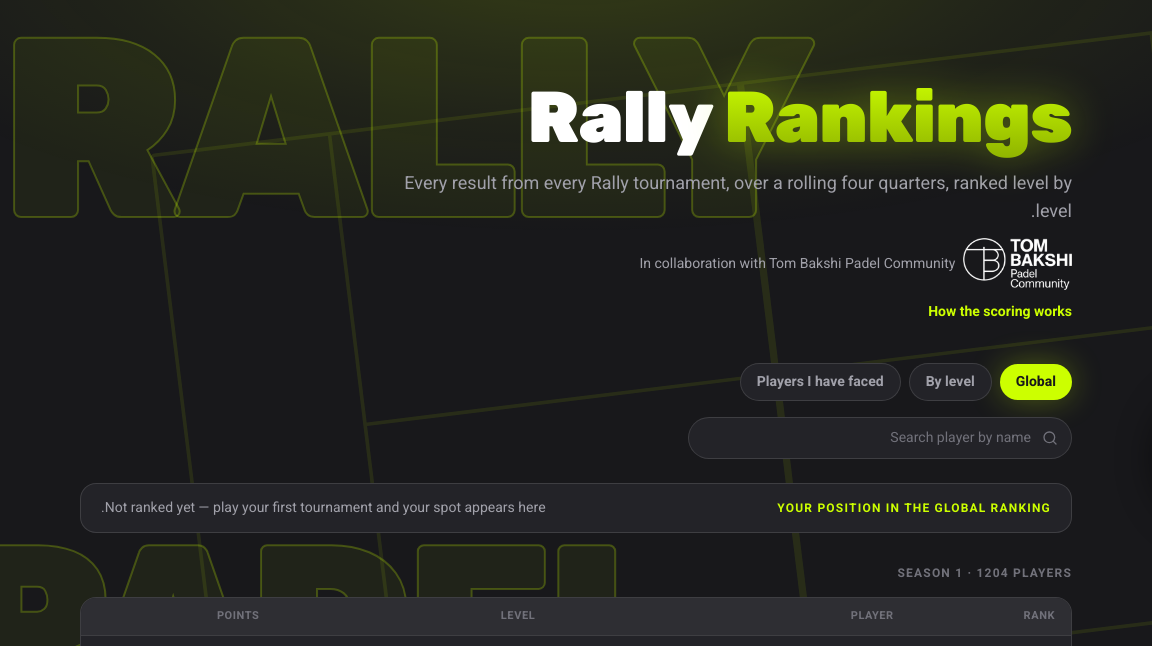
Test: the circle frame › signed in with zero opponents: the go-play invitation, not a bare empty table
Click the button with test id "league-frame-circle": click(820, 382) x1=740 y1=363 x2=901 y2=401
(page scrolled)
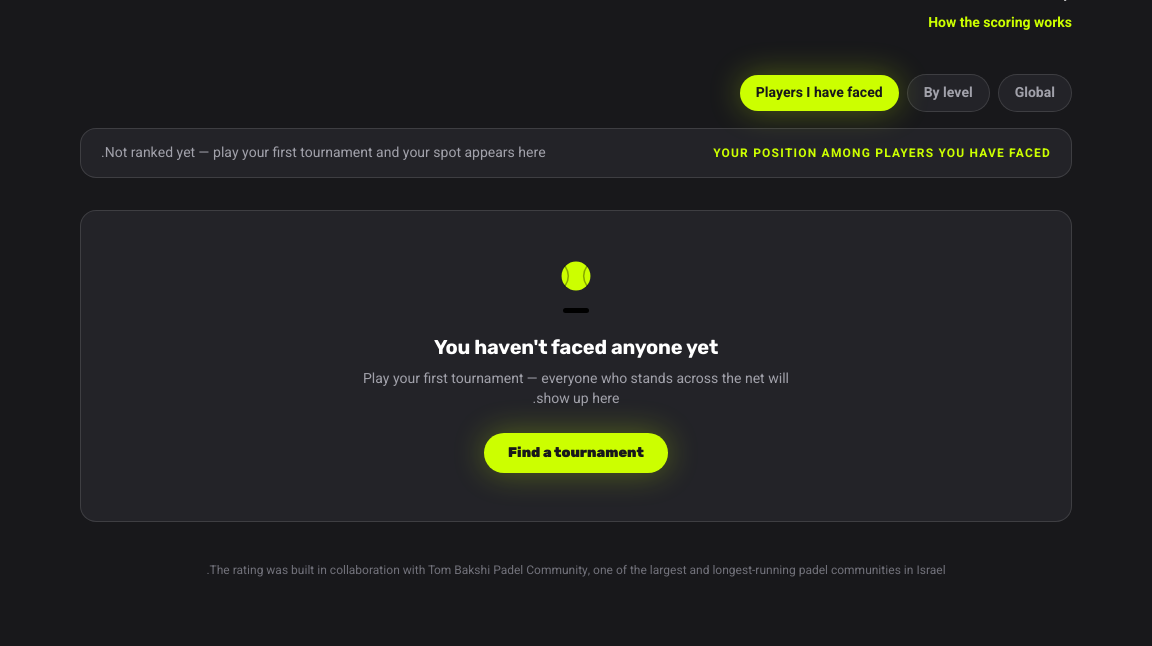
Expected: the heading "You haven't faced anyone yet" is shown, x1=434 y1=335 x2=718 y2=359
